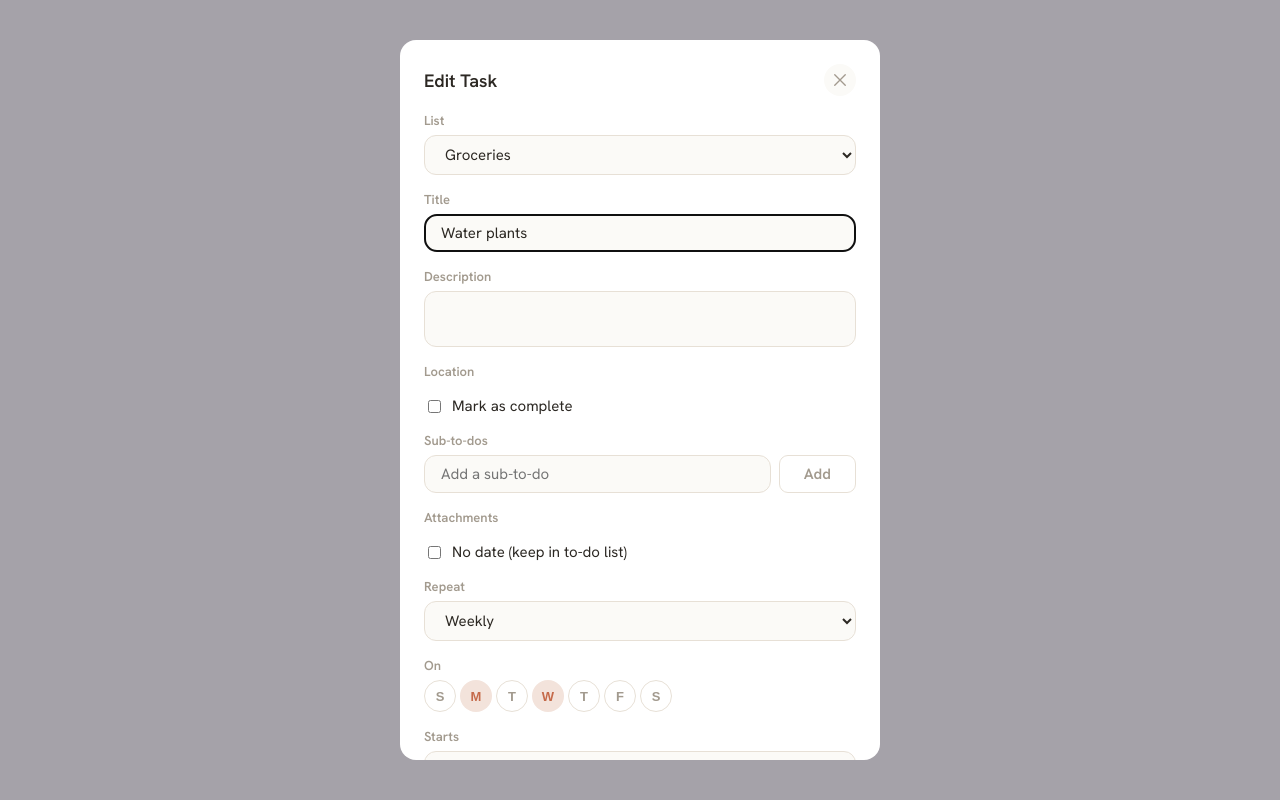
Test: a repeating to-do opened from the calendar as its series row › goes back to a plain delete once the to-do is set to stop repeating
Select "Does not repeat" in the dropdown labelled "Repeat" at point(640, 621), box [424,601,856,641]
(page scrolled)
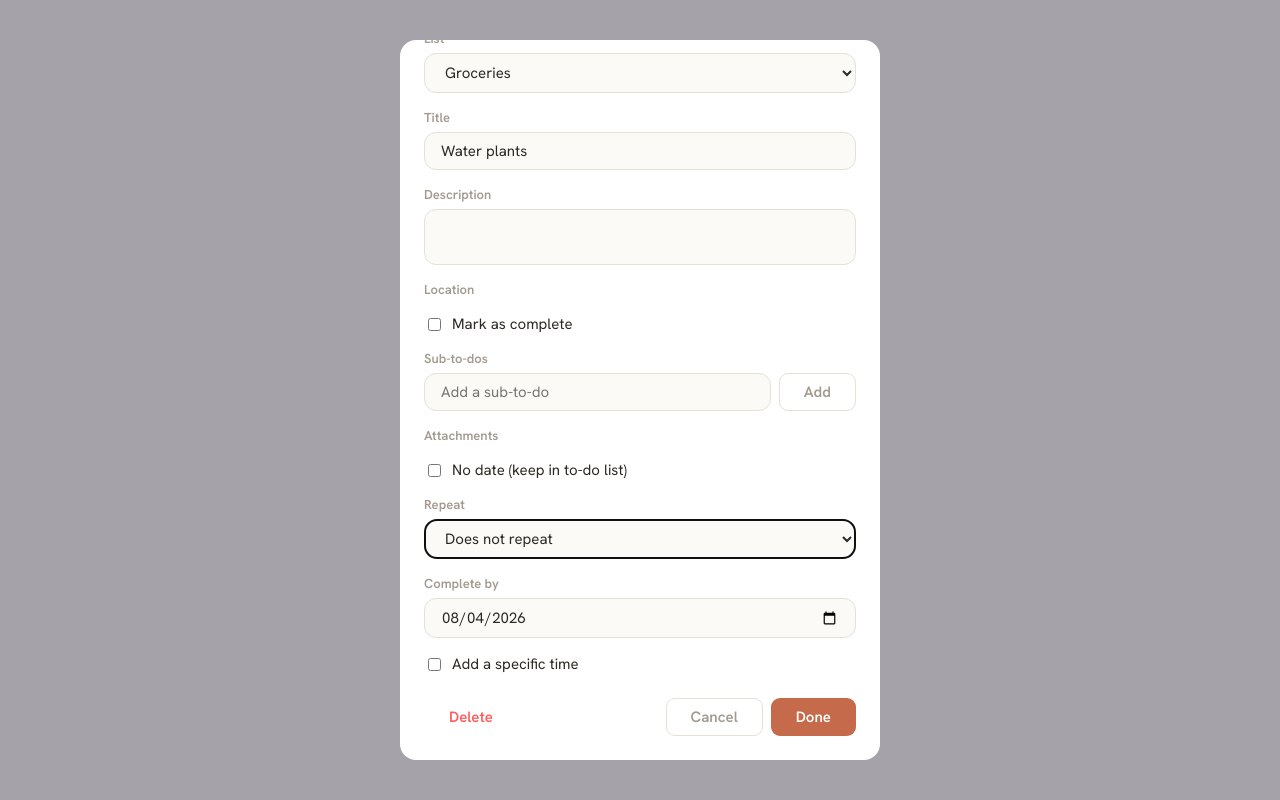
Expected: the button "Delete" is shown, [424,698,518,736]
